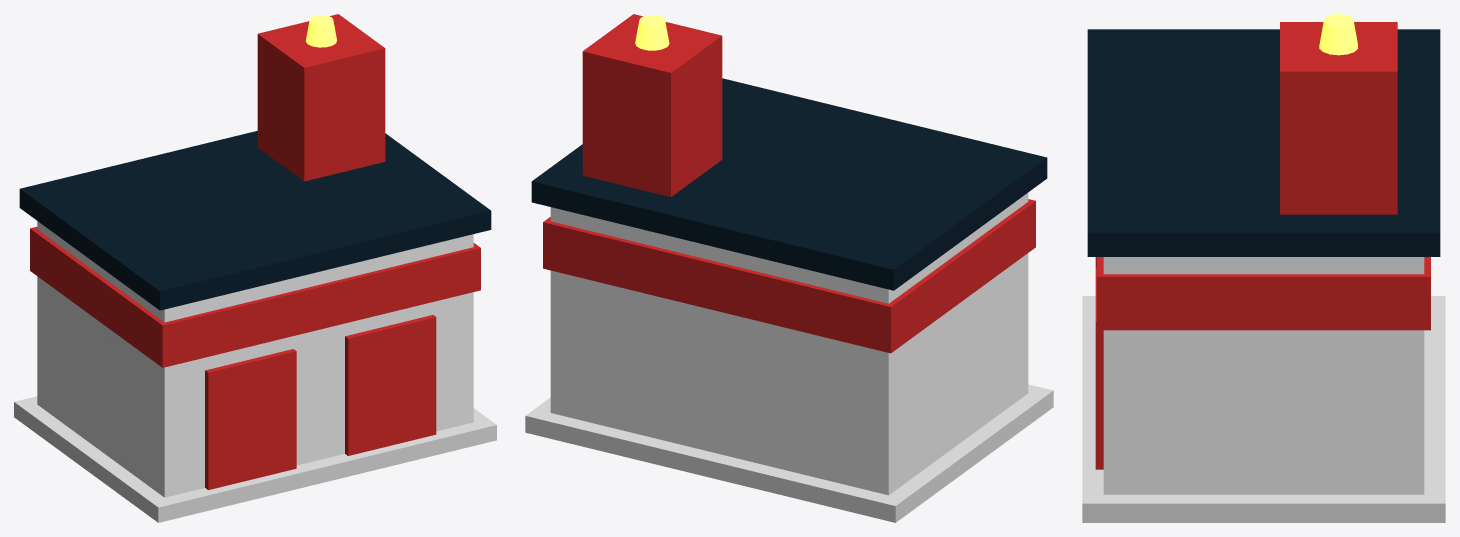
The model's file is pos_damkar.glb.
The picture shows the model from 3 angles, left to right: view 1: azimuth 30°, elevation 25°; view 2: azimuth 150°, elevation 25°; view 3: azimuth 270°, elevation 25°; orthographic projection. The views are drawn at different scales.
Visible parts, largest first — view 1: pos_damkar; view 2: pos_damkar; view 3: pos_damkar.
Boxes of the visible parts, x1=… form: pos_damkar: x1=14, y1=14, x2=496, y2=522; pos_damkar: x1=525, y1=14, x2=1053, y2=522; pos_damkar: x1=1082, y1=14, x2=1445, y2=522.
Bounding box in the file's own units: 9.2 × 9.45 × 6.8.
